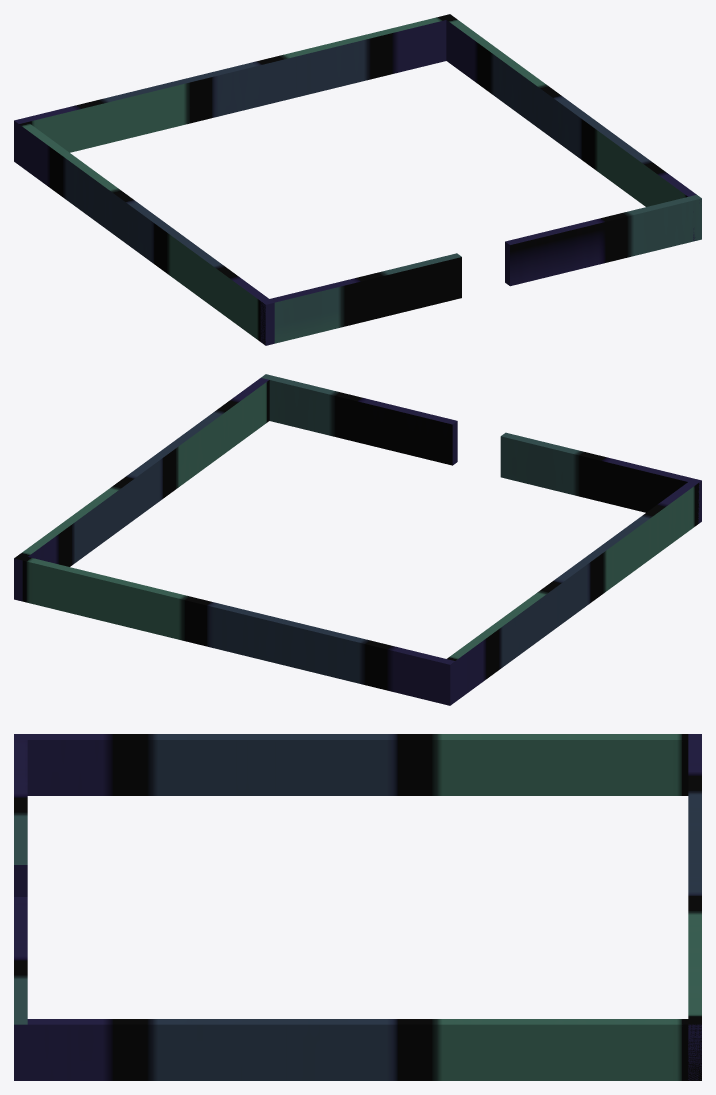
File: roomWalls.fbx
3 views of the same model, one above another, from view 1: azimuth 30°, elevation 25°; view 2: azimuth 150°, elevation 25°; view 3: azimuth 270°, elevation 25° (orthographic). The views are drawn at different scales.
Visible parts, largest first — view 1: Plane.001; view 2: Plane.001; view 3: Plane.001.
Boxes of the visible parts, <box> form: Plane.001: <box>14,14,701,345</box>; Plane.001: <box>14,374,701,705</box>; Plane.001: <box>14,734,701,1080</box>.
Size of the model in its own units: 10000 by 10000 by 900.
